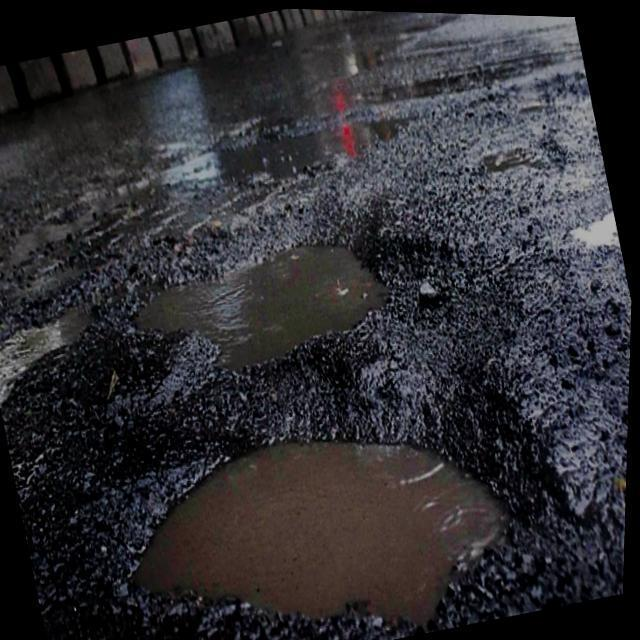Pothole: (12, 178, 627, 640), (0, 293, 100, 406)
